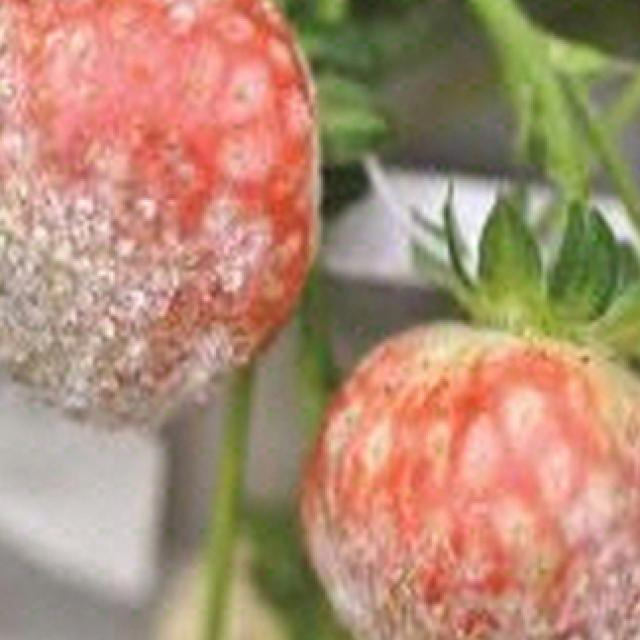Powdery Mildew Fruit: (295, 319, 640, 640)
